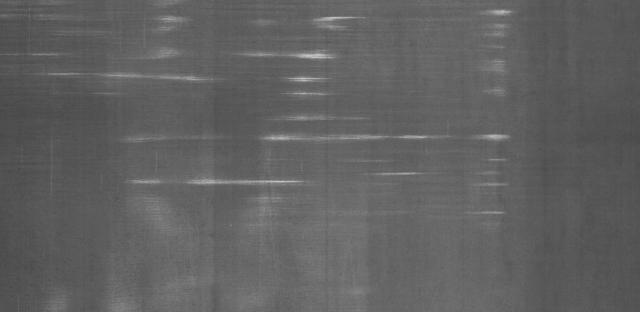waist_folding: (89, 29, 530, 234)
